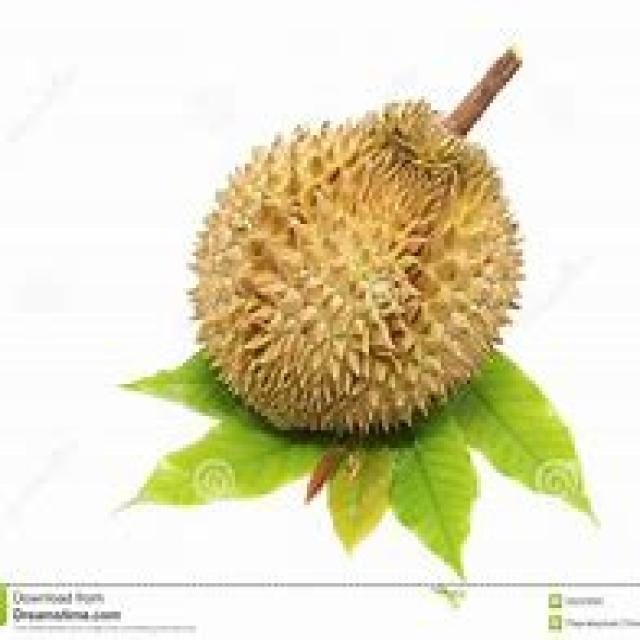mature: (196, 102, 521, 434)
